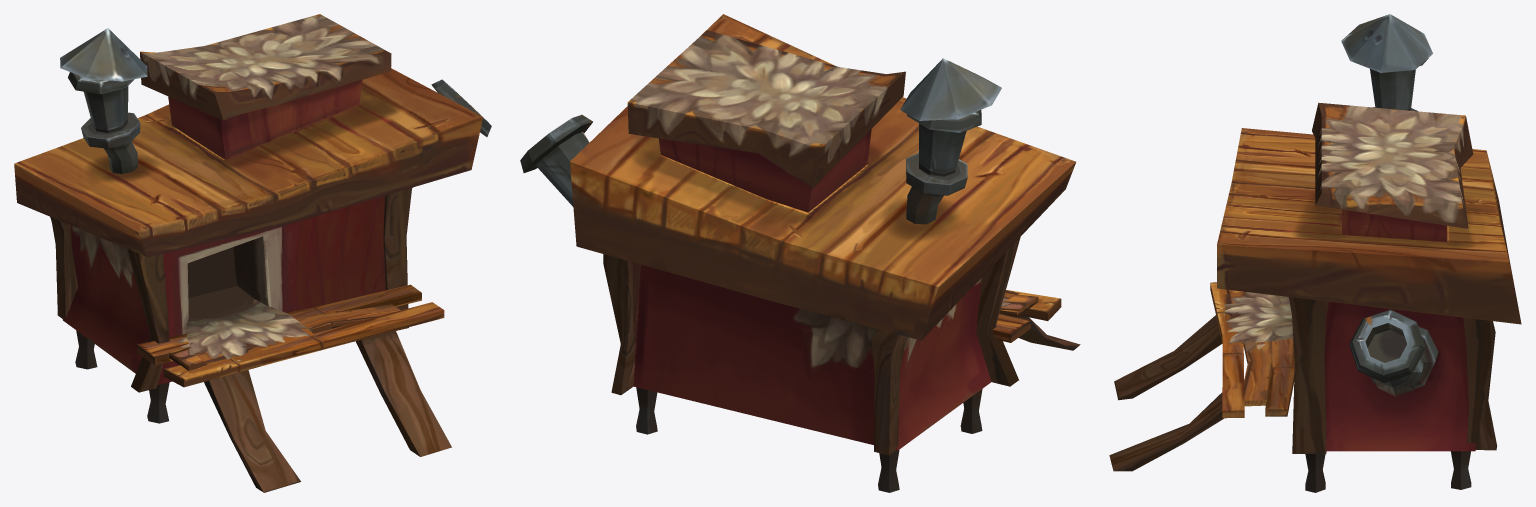
Rendered from ChickenHousePipes_2.fbx.
The picture shows the model from 3 angles, left to right: view 1: azimuth 30°, elevation 25°; view 2: azimuth 150°, elevation 25°; view 3: azimuth 270°, elevation 25°; orthographic projection. The views are drawn at different scales.
Visible parts, largest first — view 1: ChickenHouse_2NEW; view 2: ChickenHouse_2NEW; view 3: ChickenHouse_2NEW.
Part boxes in pixels (x1,y1,x2,y2): ChickenHouse_2NEW: (14, 14, 491, 492); ChickenHouse_2NEW: (520, 14, 1080, 492); ChickenHouse_2NEW: (1109, 14, 1521, 492).
Bounding box in the file's own units: 2.4 × 1.98 × 2.06.
